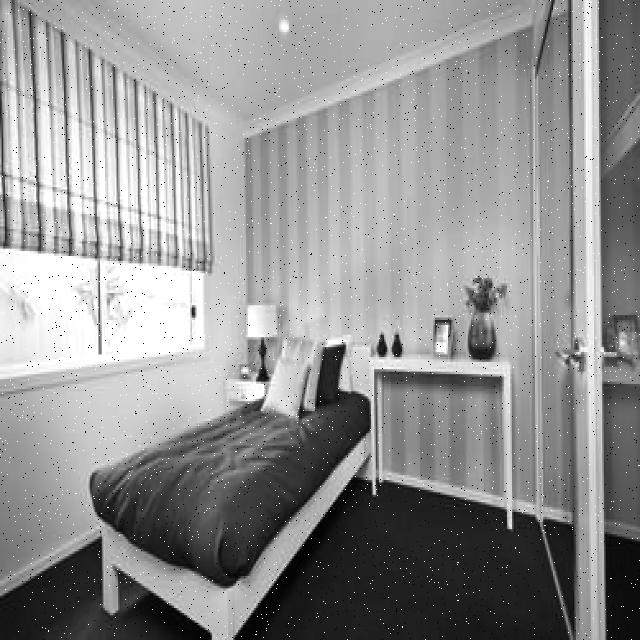bed: (93, 322, 376, 612)
